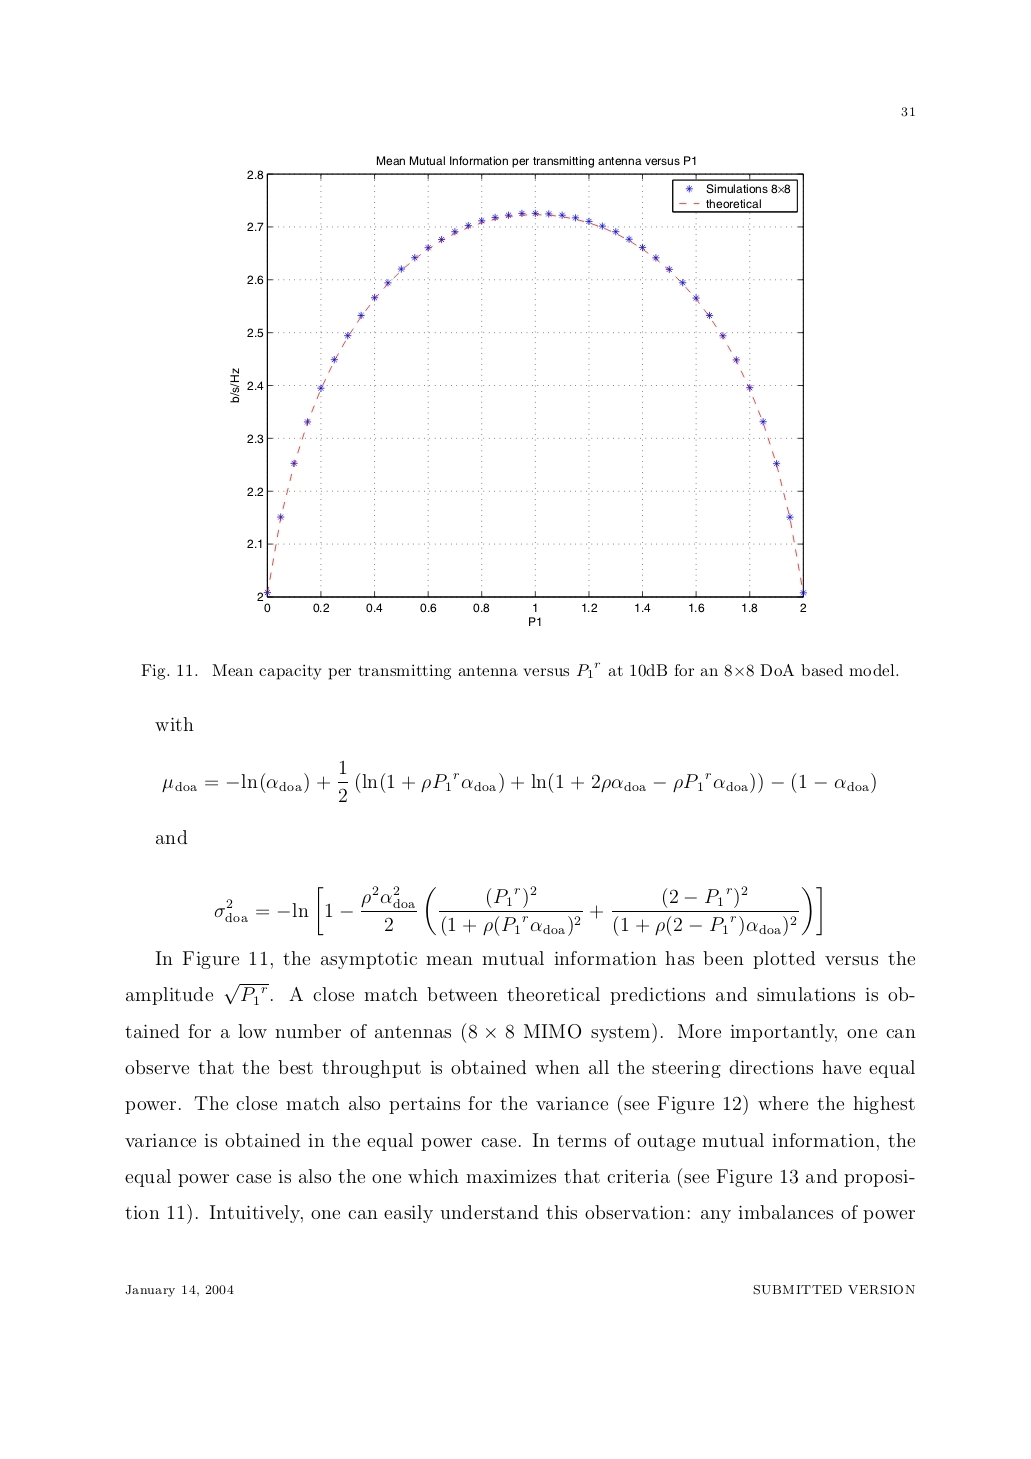figure: (230, 155, 806, 613)
formula: (214, 885, 821, 936), (162, 759, 875, 802)
